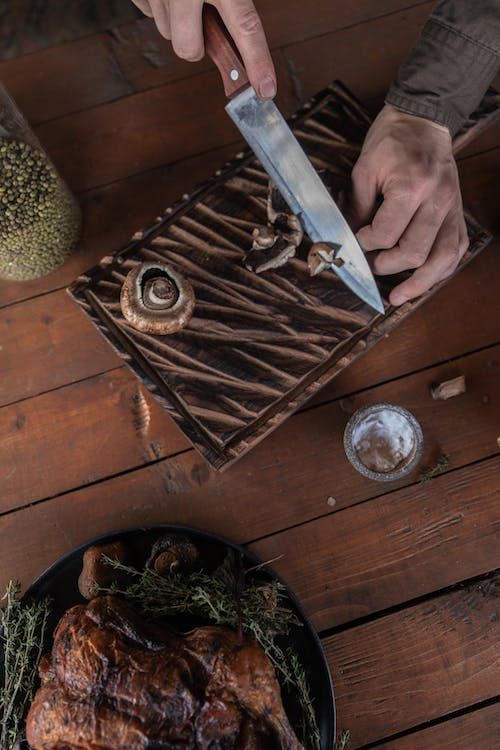knife: (200, 0, 389, 317)
